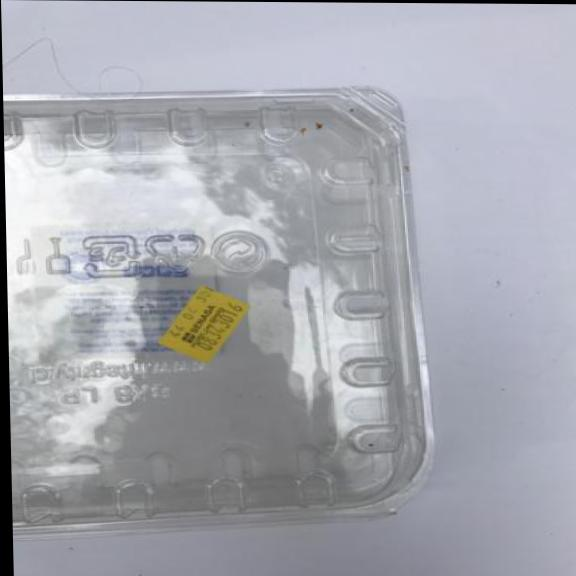Plastik: (2, 79, 445, 546)
